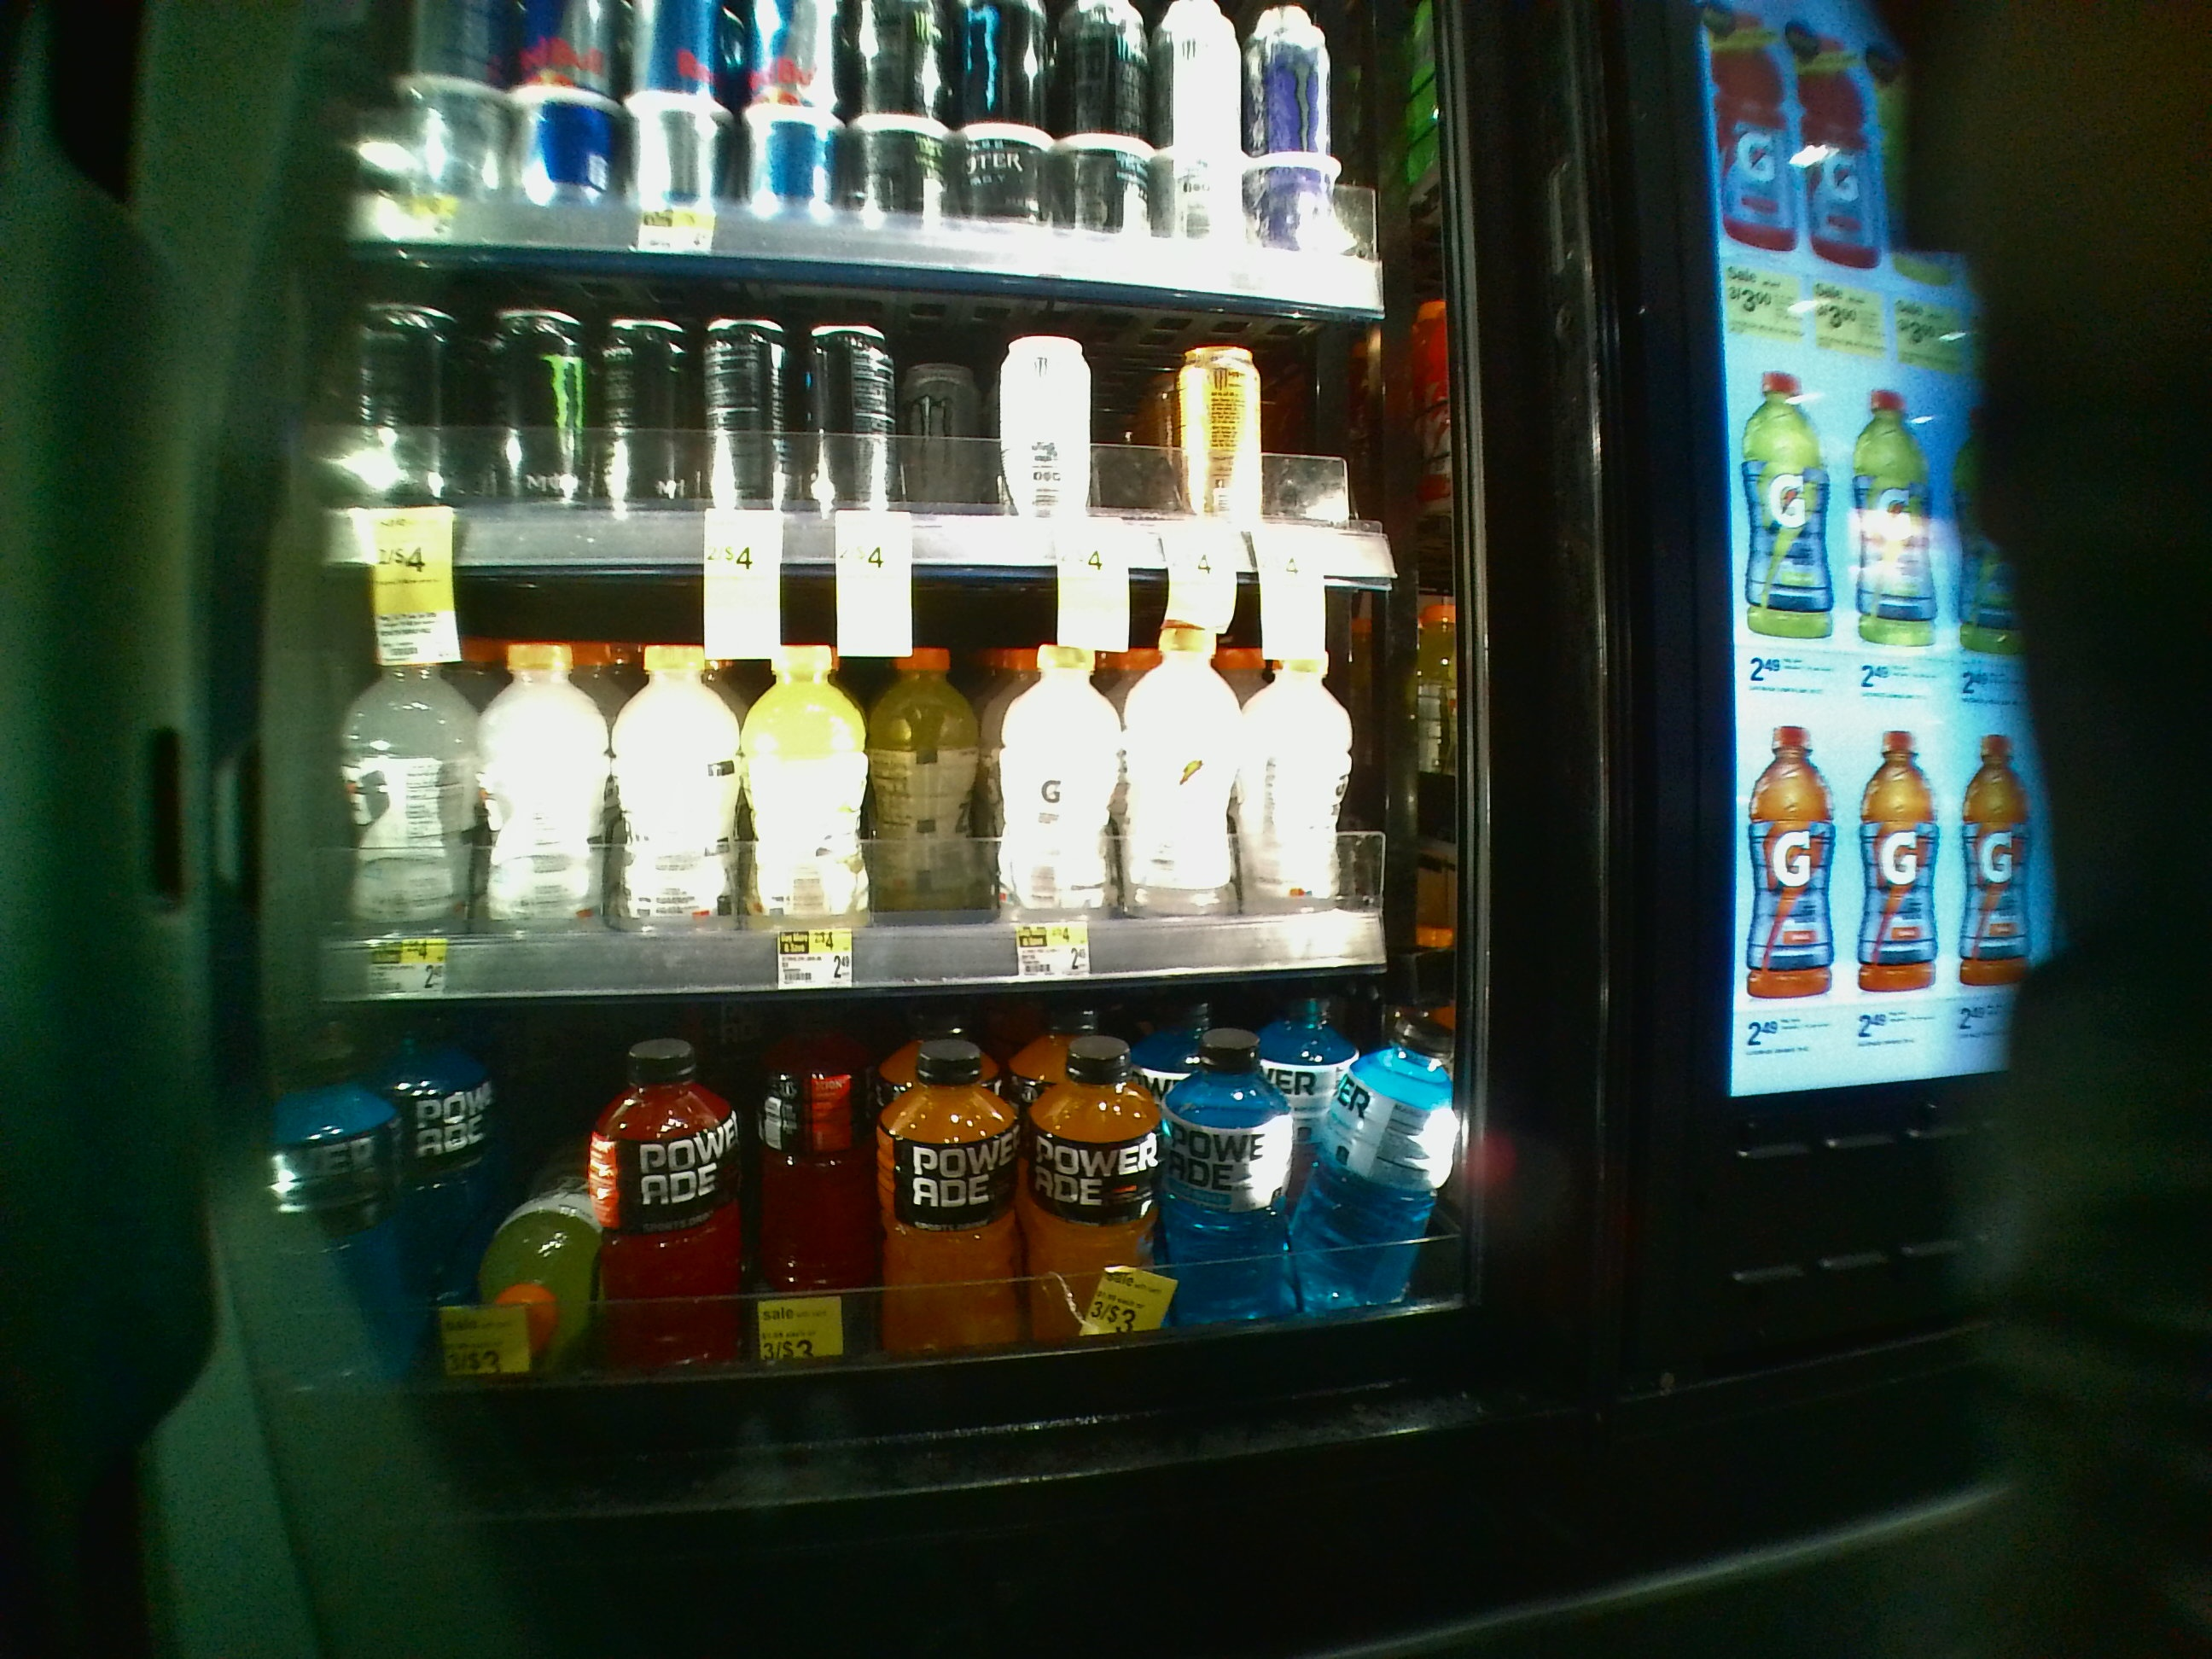shelf: (280, 565, 1491, 981), (270, 251, 1484, 582)
